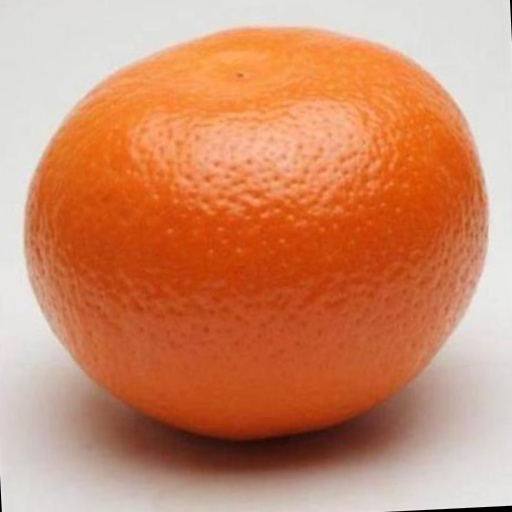fruit: (25, 29, 486, 439)
